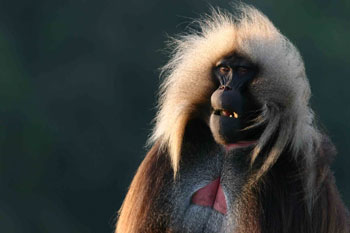Gelada: (161, 11, 318, 233)
